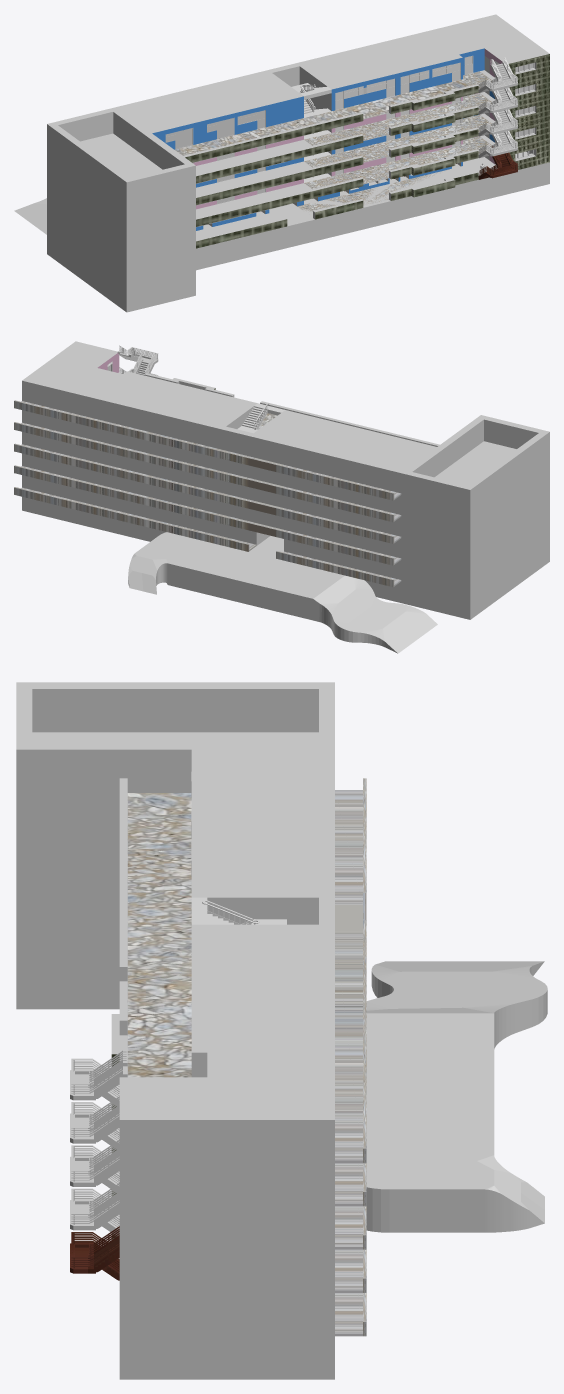
File: A1_Building_V3.fbx
The picture shows the model from 3 angles, top to bottom: view 1: azimuth 30°, elevation 25°; view 2: azimuth 150°, elevation 25°; view 3: azimuth 270°, elevation 25°; orthographic projection. The views are drawn at different scales.
Visible parts, largest first — view 1: Cube.122; view 2: Cube.122; view 3: Cube.122.
Boxes of the visible parts, x1,y1,x2,y2 form: Cube.122: (14,14,549,312); Cube.122: (14,341,549,653); Cube.122: (16,682,547,1379).
Size of the model in its own units: 6500 by 1897 by 3336.
